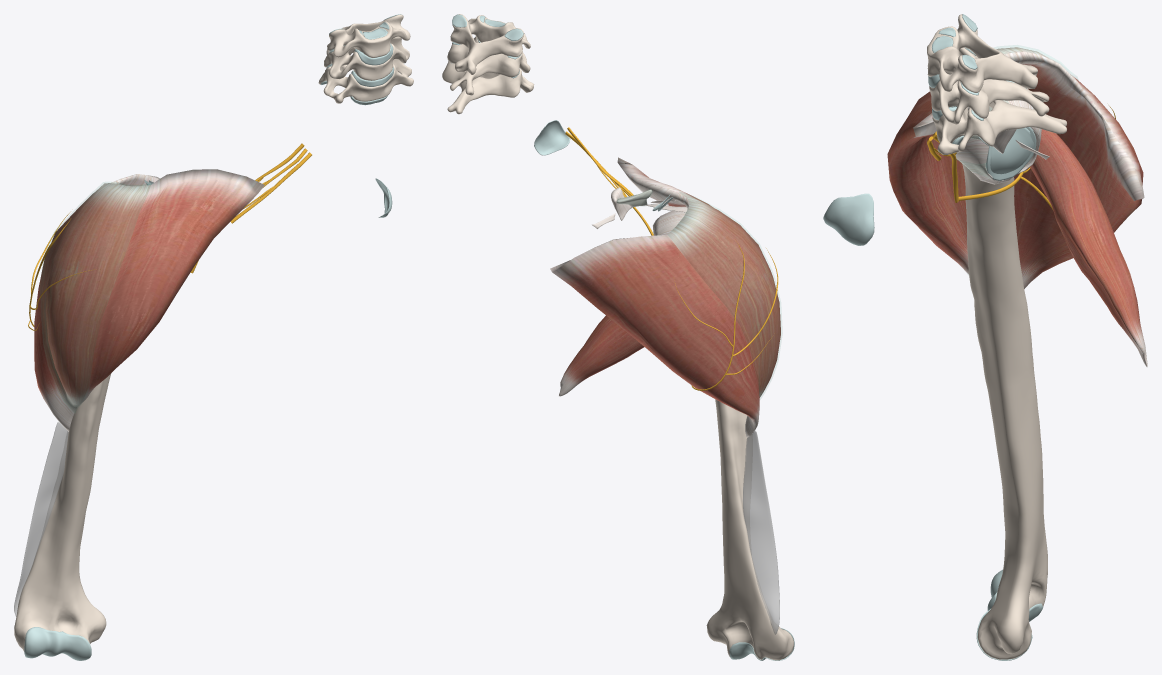
Rendered from axillary-nerve.glb.
The picture shows the model from 3 angles, left to right: view 1: azimuth 30°, elevation 25°; view 2: azimuth 150°, elevation 25°; view 3: azimuth 270°, elevation 25°; orthographic projection. The views are drawn at different scales.
Parts seen in each view (by area): view 1: Deltoid muscle.r, Humerus.r, Lateral intermuscular septum of arm.r, Cervical vertebra (C4), Cervical vertebra (C6), Art cart of humerus distal end.r, Cervical vertebra (C5); view 2: Deltoid muscle.r, Humerus.r, Lateral intermuscular septum of arm.r, Teres minor muscle.r, Cervical vertebra (C4), Cervical vertebra (C6), Cervical vertebra (C5), Art cart of sternoclavicular joint on clavicle.r, Axillary nerve - superior lateral br cutaneous nerve.r, Coracoclavicular ligament.r, Articular capsule of glenohumeral joint.r; view 3: Humerus.r, Deltoid muscle.r, Teres minor muscle.r, Cervical vertebra (C4), Cervical vertebra (C6), Cervical vertebra (C5), Art cart of sternoclavicular joint on clavicle.r, Articular capsule of glenohumeral joint.r, Art cart of glenohumeral joint on scapula.r, Vertebra C4 art cart, Art cart of humerus distal end.r, Glenoid labrum.r (+1 smaller).
Boxes of the visible parts, x1,y1,x2,y2 form: Deltoid muscle.r: (34,169,264,431); Humerus.r: (14,373,111,651); Lateral intermuscular septum of arm.r: (14,421,68,616); Cervical vertebra (C4): (327,14,410,57); Cervical vertebra (C6): (318,59,413,103); Art cart of humerus distal end.r: (24,627,91,660); Cervical vertebra (C5): (324,36,409,80); Deltoid muscle.r: (550,157,780,437); Humerus.r: (706,399,793,660); Lateral intermuscular septum of arm.r: (742,430,779,634); Teres minor muscle.r: (559,315,643,396); Cervical vertebra (C4): (450,14,530,74); Cervical vertebra (C6): (442,60,534,114); Cervical vertebra (C5): (447,36,530,95); Art cart of sternoclavicular joint on clavicle.r: (534,120,570,155); Axillary nerve - superior lateral br cutaneous nerve.r: (674,241,778,390); Coracoclavicular ligament.r: (611,188,652,220); Articular capsule of glenohumeral joint.r: (653,210,685,235); Humerus.r: (962,163,1047,659); Deltoid muscle.r: (887,47,1144,288); Teres minor muscle.r: (1030,129,1147,366); Cervical vertebra (C4): (927,14,1037,92); Cervical vertebra (C6): (932,100,1066,154); Cervical vertebra (C5): (929,47,1049,124); Art cart of sternoclavicular joint on clavicle.r: (823,193,874,245); Articular capsule of glenohumeral joint.r: (954,88,1041,184); Art cart of glenohumeral joint on scapula.r: (990,127,1034,174); Vertebra C4 art cart: (931,14,977,84); Art cart of humerus distal end.r: (976,569,1043,660); Glenoid labrum.r: (985,127,1036,180).
Bounding box in the file's own units: 0.2807 × 0.4179 × 0.152.
12 materials, 3 textured.
